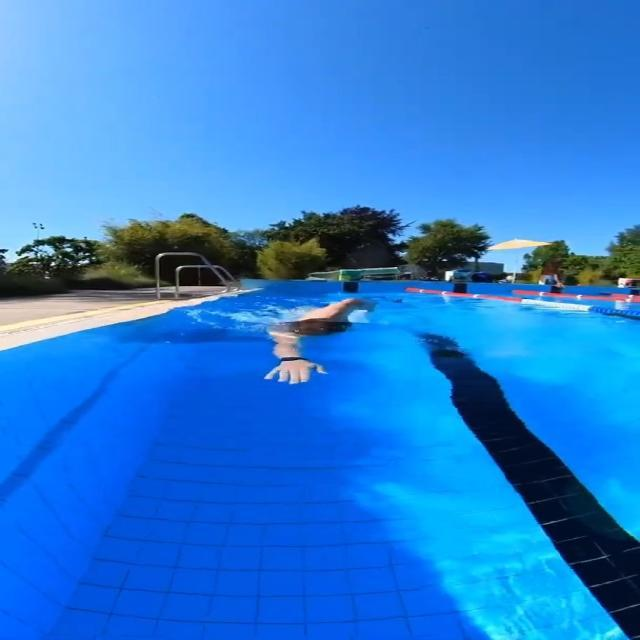Swimming: (262, 299, 379, 386)
